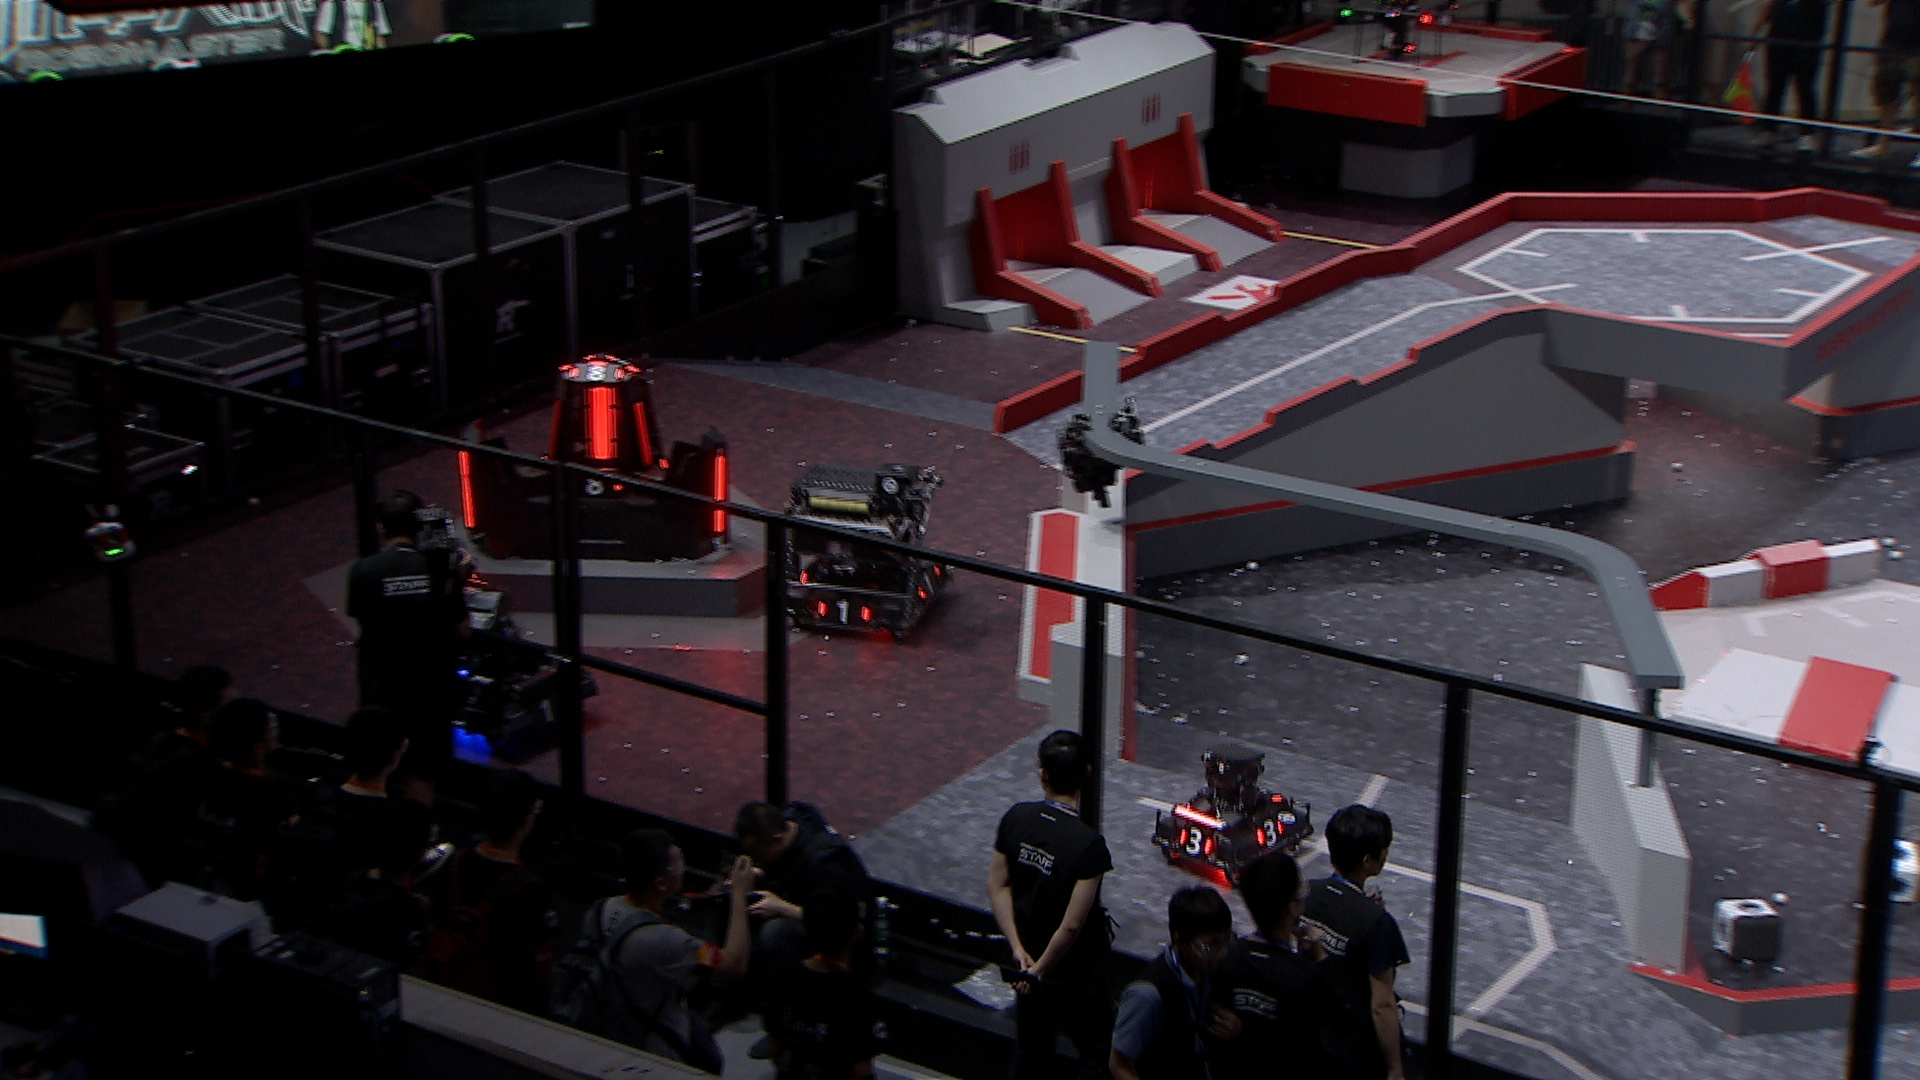armor: (585, 385, 621, 462), (814, 597, 878, 626), (632, 400, 657, 469), (456, 450, 479, 527), (541, 398, 566, 462), (711, 454, 731, 531), (1174, 827, 1218, 856), (566, 363, 626, 384), (1251, 818, 1287, 851), (578, 473, 624, 498), (918, 564, 945, 603), (533, 698, 564, 728)
base: (447, 349, 738, 566)
car: (775, 458, 959, 646), (392, 584, 589, 756), (1153, 741, 1316, 884), (384, 505, 491, 607)
watcher: (1054, 400, 1149, 504)
